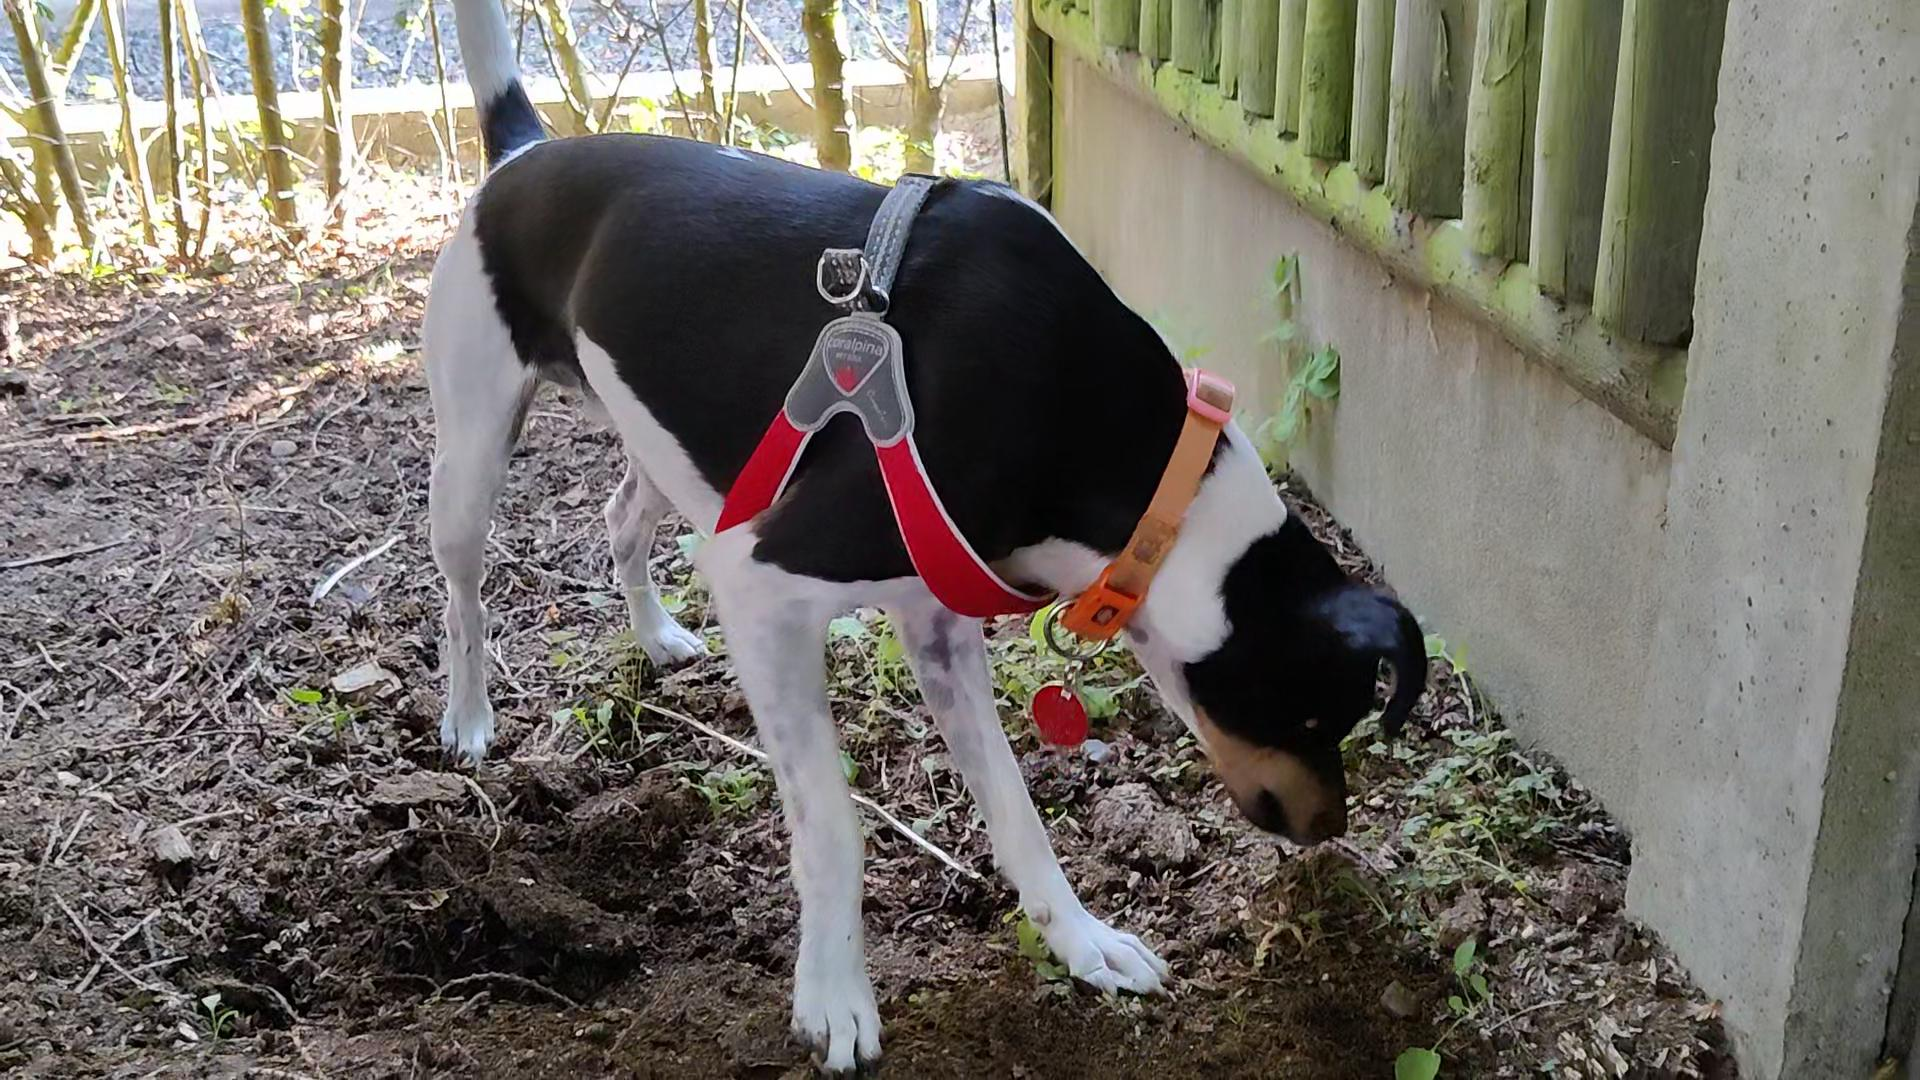Dog: (390, 0, 1460, 1080)
